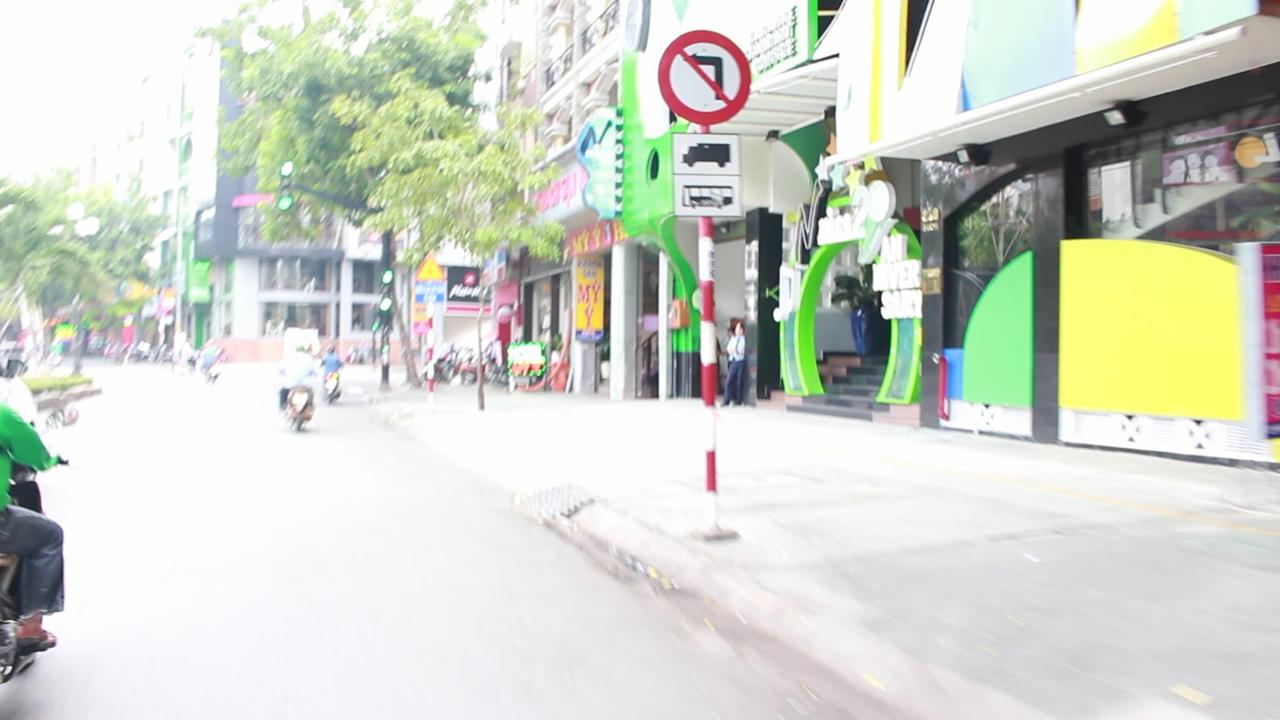P.115: (654, 29, 750, 122)
